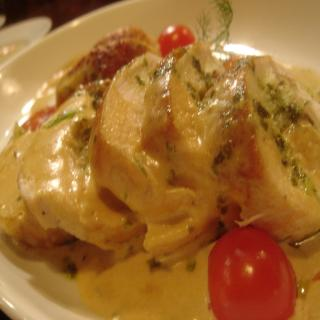tomato: (206, 230, 294, 318), (157, 24, 195, 60)
